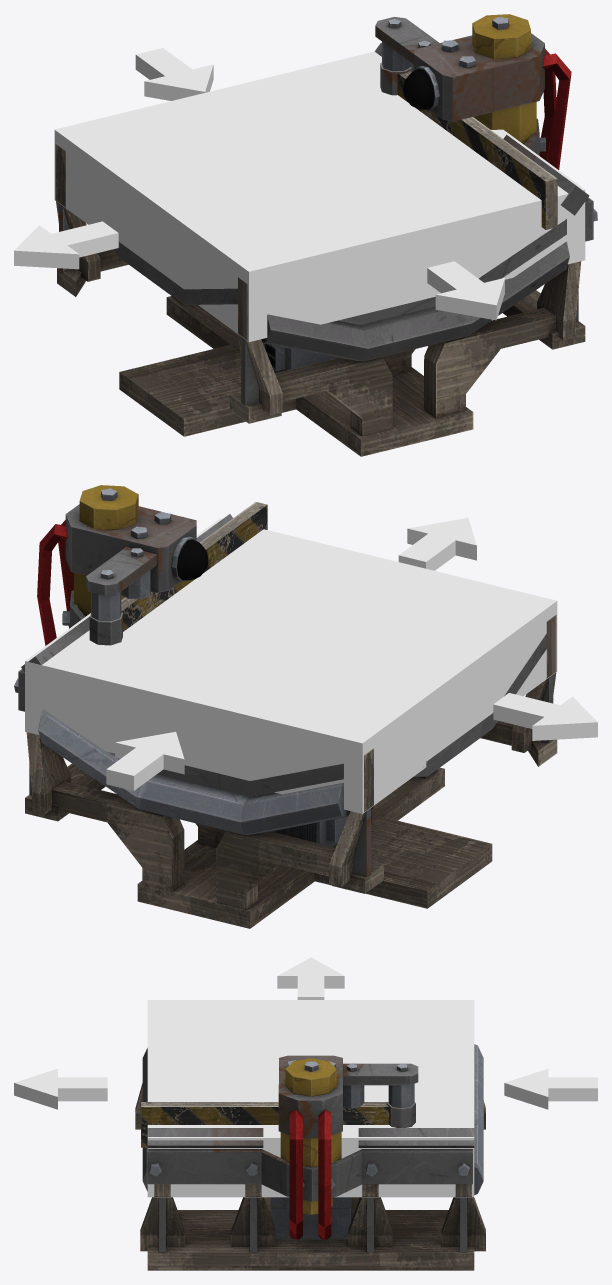
Rendered from ConveyorSplitterT2_Right.glb.
The picture shows the model from 3 angles, top to bottom: view 1: azimuth 30°, elevation 25°; view 2: azimuth 150°, elevation 25°; view 3: azimuth 270°, elevation 25°; orthographic projection. The views are drawn at different scales.
Visible parts, largest first — view 1: SplitterTrigger, SplitterT2, SplitterT2Wiper, ghostarrow, ghostarrow (1), ghostarrow (2); view 2: SplitterTrigger, SplitterT2, SplitterT2Wiper, ghostarrow, ghostarrow (2), ghostarrow (1); view 3: SplitterT2, SplitterTrigger, SplitterT2Wiper, ghostarrow (2), ghostarrow (1), ghostarrow.
Boxes of the visible parts, box(x1,y1,x2,y2) form: SplitterTrigger: box(54, 51, 585, 341); SplitterT2: box(55, 14, 597, 456); SplitterT2Wiper: box(380, 62, 557, 229); ghostarrow: box(14, 221, 118, 269); ghostarrow (1): box(427, 261, 504, 320); ghostarrow (2): box(135, 48, 213, 100); SplitterTrigger: box(25, 518, 557, 813); SplitterT2: box(14, 485, 557, 928); SplitterT2Wiper: box(89, 502, 267, 645); ghostarrow: box(493, 693, 597, 740); ghostarrow (2): box(106, 731, 184, 790); ghostarrow (1): box(398, 518, 476, 570); SplitterT2: box(135, 1044, 485, 1270); SplitterTrigger: box(147, 1000, 474, 1197); SplitterT2Wiper: box(141, 1102, 415, 1147); ghostarrow (2): box(504, 1069, 597, 1109); ghostarrow (1): box(14, 1068, 107, 1109); ghostarrow: box(277, 957, 344, 999).
Bounding box in the file's own units: 1.64 × 0.8716 × 1.79.
5 materials, 2 textured.
